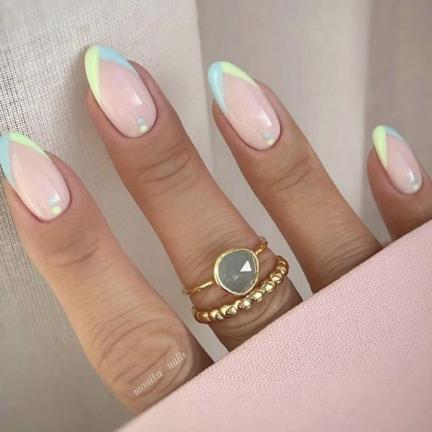Nail: (84, 44, 157, 138), (207, 60, 281, 150), (0, 132, 72, 223), (372, 124, 422, 194)
